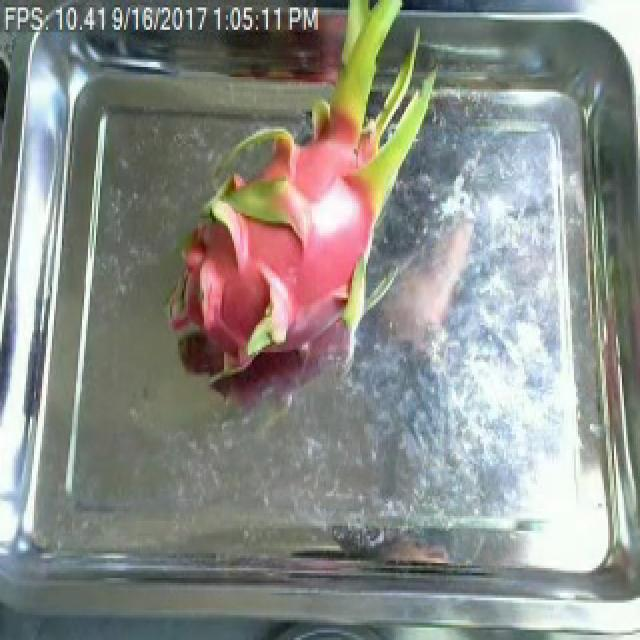fruit: (146, 5, 456, 397)
